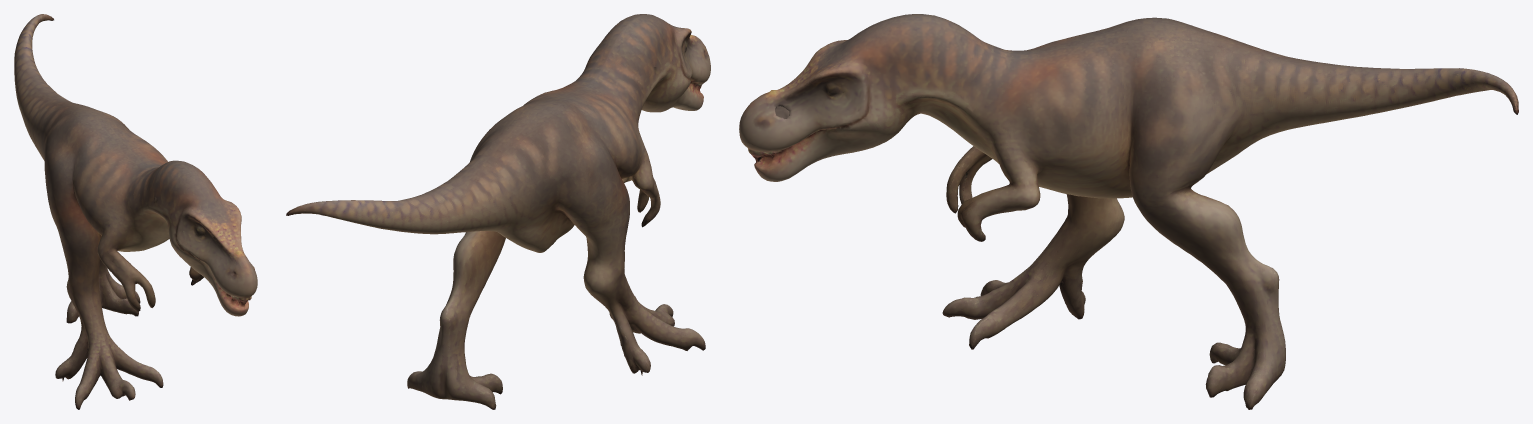
The picture shows the model from 3 angles, left to right: view 1: azimuth 30°, elevation 25°; view 2: azimuth 150°, elevation 25°; view 3: azimuth 270°, elevation 25°; orthographic projection. The views are drawn at different scales.
Visible parts, largest first — view 1: world; view 2: world; view 3: world.
Part boxes in pixels (<box>): world: <box>14,14,257,409</box>; world: <box>286,14,710,409</box>; world: <box>739,14,1518,409</box>.
Size of the model in its own units: 2.09 by 2.93 by 6.
1 material, 1 textured.
